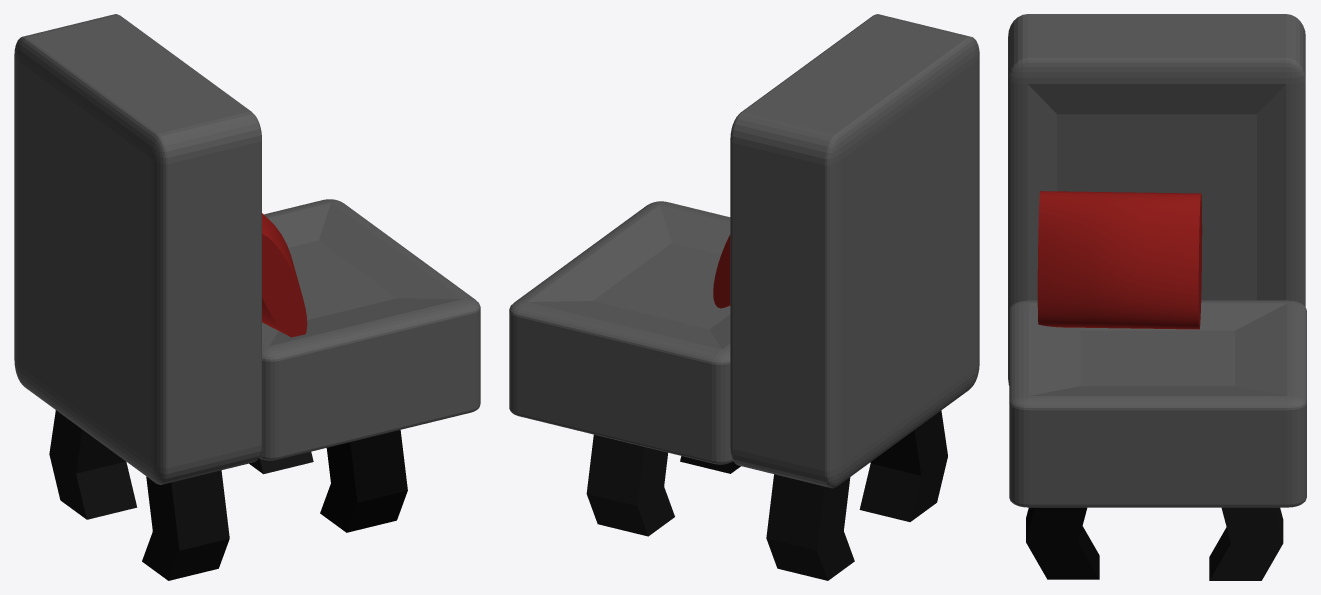
The model's file is tekli_koltuk.fbx.
The picture shows the model from 3 angles, left to right: view 1: azimuth 30°, elevation 25°; view 2: azimuth 150°, elevation 25°; view 3: azimuth 270°, elevation 25°; orthographic projection. The views are drawn at different scales.
Visible parts, largest first — view 1: Cube, Cube.001, Cube.005, Cube.004, Cube.002, Cylinder, Cube.003; view 2: Cube, Cube.001, Cube.002, Cube.003, Cube.005, Cylinder; view 3: Cube, Cube.001, Cylinder, Cube.003, Cube.004.
Part boxes in pixels (x1,y1,x2,y2): Cube: [14, 14, 261, 484]; Cube.001: [259, 199, 480, 460]; Cube.005: [142, 470, 229, 580]; Cube.004: [320, 430, 407, 532]; Cube.002: [49, 410, 137, 519]; Cylinder: [262, 213, 307, 337]; Cube.003: [249, 451, 313, 474]; Cube: [730, 14, 979, 488]; Cube.001: [509, 201, 732, 464]; Cube.002: [766, 474, 854, 580]; Cube.003: [586, 434, 674, 536]; Cube.005: [859, 410, 947, 521]; Cylinder: [713, 234, 730, 308]; Cube: [1008, 14, 1305, 385]; Cube.001: [1009, 300, 1306, 507]; Cylinder: [1037, 191, 1202, 329]; Cube.003: [1209, 507, 1283, 580]; Cube.004: [1026, 507, 1099, 579].
Bounding box in the file's own units: 459 × 616 × 370.
